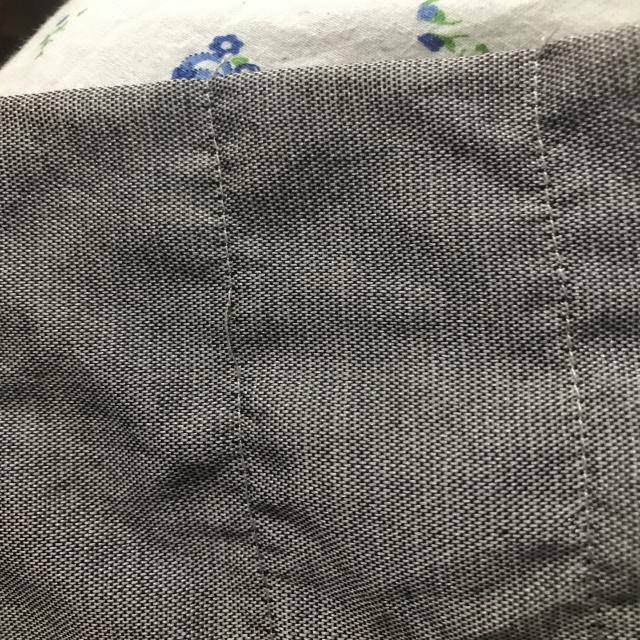good: (201, 154, 238, 247)
skip: (220, 275, 268, 383)
